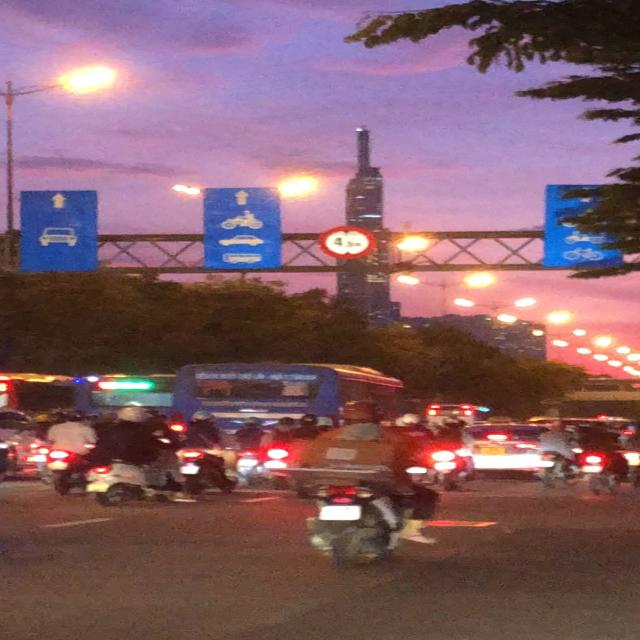Bien bao han che chieu cao: (316, 223, 383, 258)
